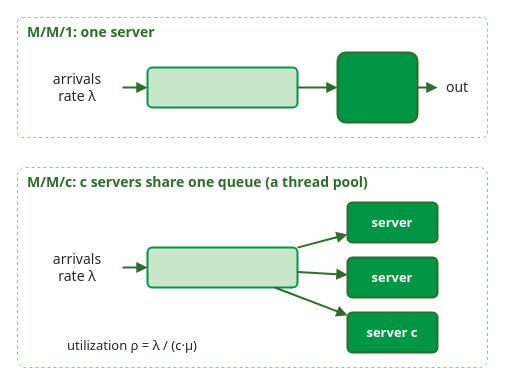
This 505x385 diagram has some shape labels left out. Here are the shapes that lost their labels. From the top down, the centre of each, then its label:
At [222,87]: "queue (waiting)".
At [377,87]: "server rate μ".
At [222,267]: "one queue".
